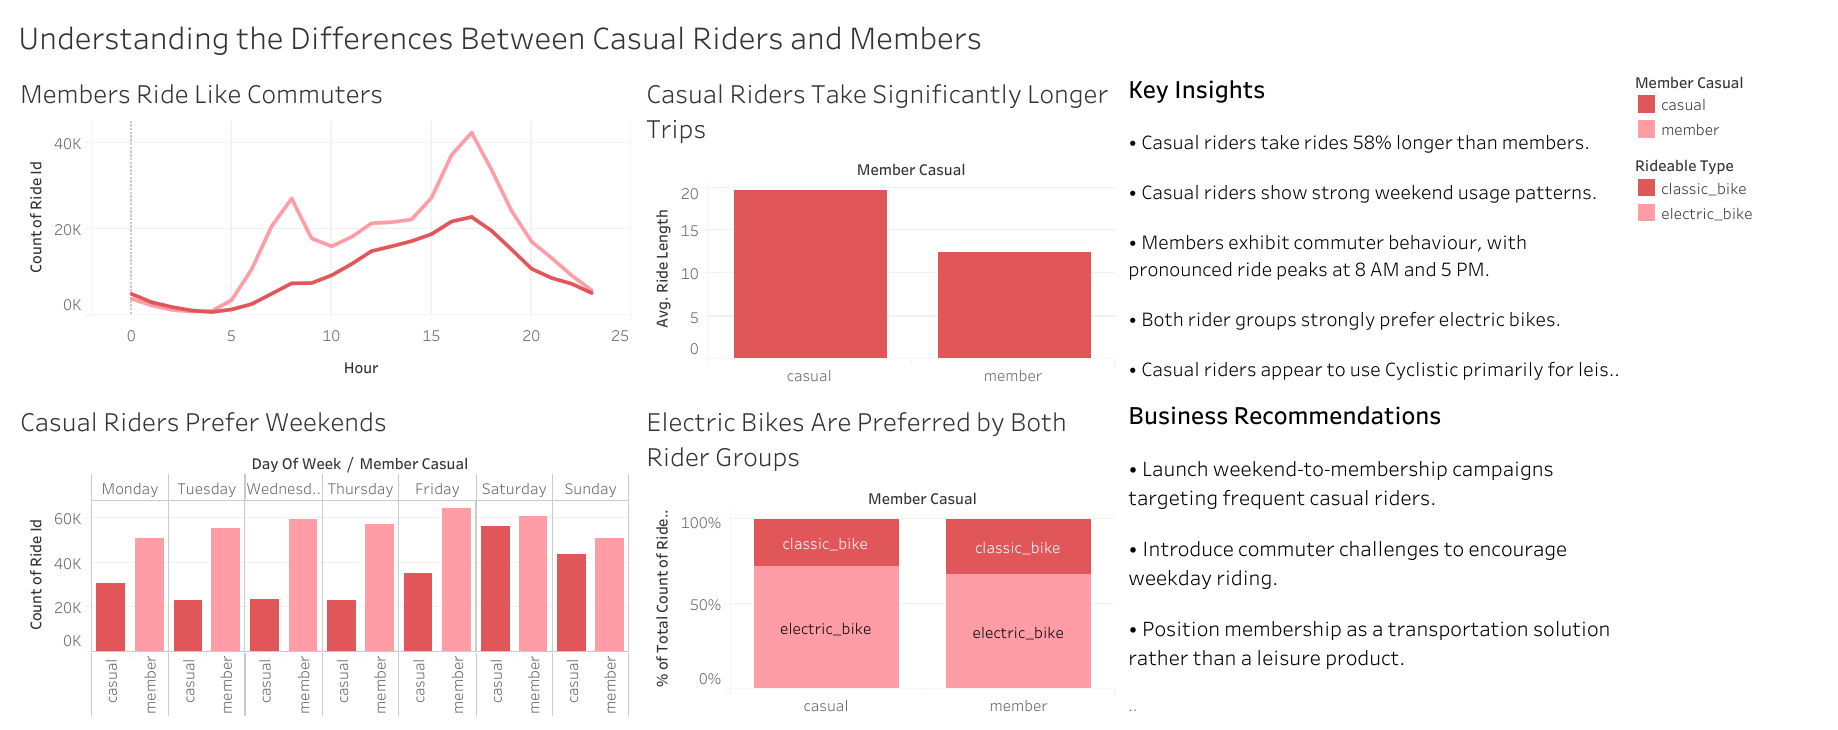

This screenshot's page, from the dashboard's own definition file:
{"tool":"tableau","page":{"name":"Dashboard 1","canvas":[1000,1000],"units":"permille","ordinal":0},"visuals":[{"type":"title","box":[4.8,9.4,990.3,58.8]},{"type":"worksheet","title":"Sheet 3","mark":"Line","rows":["ride_id"],"cols":["hour"],"box":[4.8,68.2,345.8,461.2]},{"type":"worksheet","title":"Average Ride Length by Rider Type","mark":"Automatic","rows":["ride_length"],"cols":["member_casual"],"box":[350.6,68.2,267.4,461.2]},{"type":"text","box":[618,68.2,280.6,461.2]},{"type":"legend","title":"Sheet 2","param":"[federated.122llcd0gxpn9u1dfyglr0lxk0qa].[none:member_casual:nk]","box":[898.6,68.2,96.6,84.6]},{"type":"legend","title":"Sheet 4","param":"[federated.122llcd0gxpn9u1dfyglr0lxk0qa].[none:rideable_type:nk]","box":[898.6,152.8,96.6,84.6]},{"type":"worksheet","title":"Sheet 2","mark":"Bar","rows":["ride_id"],"cols":["day_of_week","member_casual"],"box":[4.8,529.4,345.8,461.2]},{"type":"worksheet","title":"Sheet 4","mark":"Automatic","cols":["member_casual"],"box":[350.6,529.4,267.4,461.2]},{"type":"text","box":[618,529.4,280.6,461.2]}]}

Visuals, with their boxes on the dashboard's canvas, which has no fixed pixel size, in thousandths of its width and height (x1, y1, x2, y2). These are canvas units, not pixel positions in the 1838x730 screenshot, which may show the page scaled, cropped or inside an application window:
title: l=5, t=9, r=995, b=68
"Sheet 3" worksheet (Line marks): l=5, t=68, r=351, b=529
"Average Ride Length by Rider Type" worksheet: l=351, t=68, r=618, b=529
text: l=618, t=68, r=899, b=529
"Sheet 2" legend: l=899, t=68, r=995, b=153
"Sheet 4" legend: l=899, t=153, r=995, b=237
"Sheet 2" worksheet (Bar marks): l=5, t=529, r=351, b=991
"Sheet 4" worksheet: l=351, t=529, r=618, b=991
text: l=618, t=529, r=899, b=991
